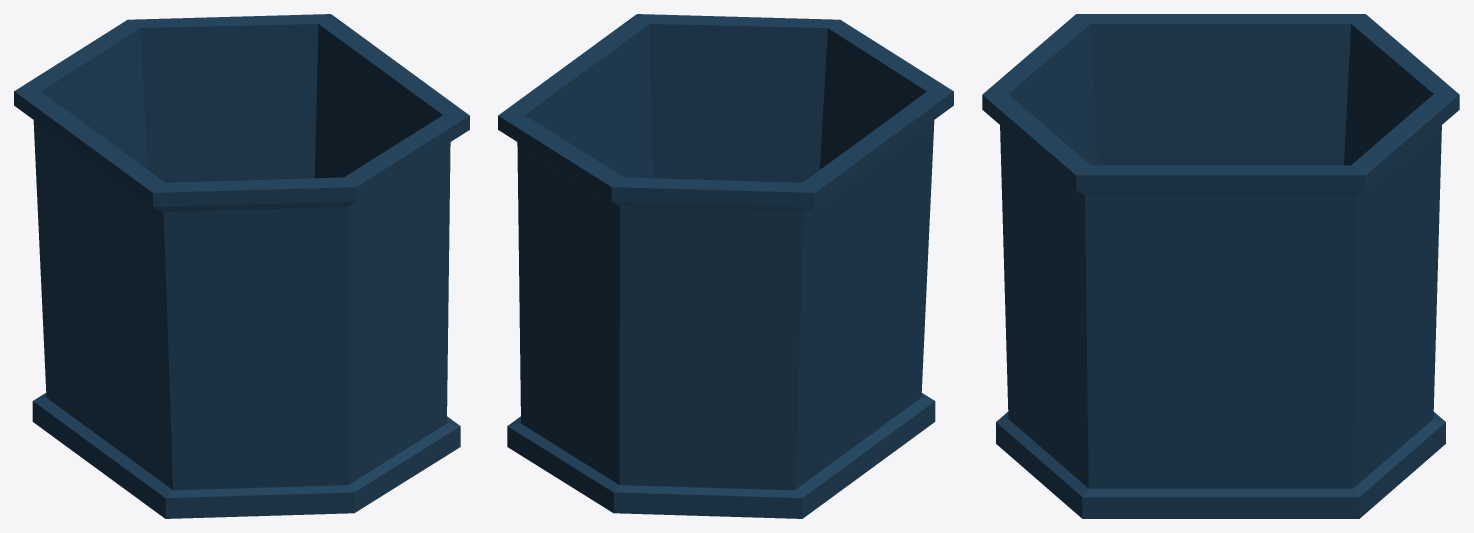
Rendered from Compost.fbx.
3 renders of one model, left to right at view 1: azimuth 30°, elevation 25°; view 2: azimuth 150°, elevation 25°; view 3: azimuth 270°, elevation 25°, orthographic. The views are drawn at different scales.
Parts seen in each view (by area): view 1: Compost; view 2: Compost; view 3: Compost.
Boxes of the visible parts, x1,y1,x2,y2 form: Compost: [14, 14, 469, 518]; Compost: [498, 14, 953, 518]; Compost: [982, 14, 1459, 518].
Bounding box in the file's own units: 434 × 436 × 543.
